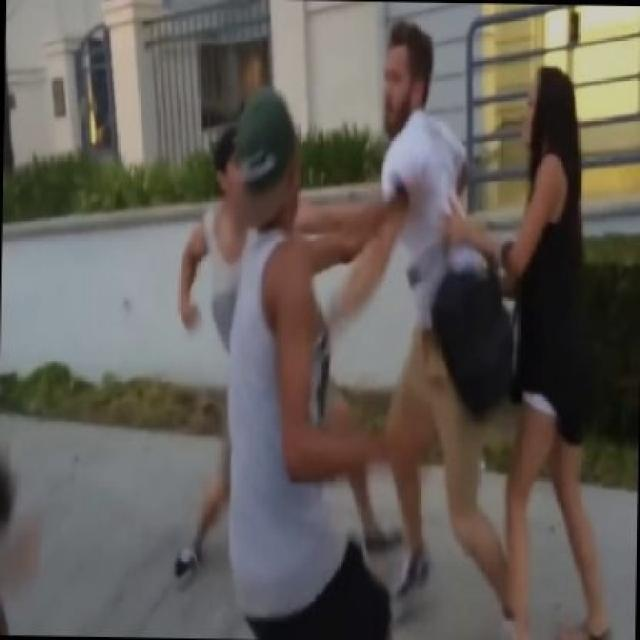fight: (166, 18, 533, 626)
non-fight: (217, 89, 430, 639), (436, 61, 613, 640)
